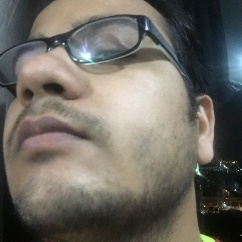glasses: (6, 35, 186, 71)
